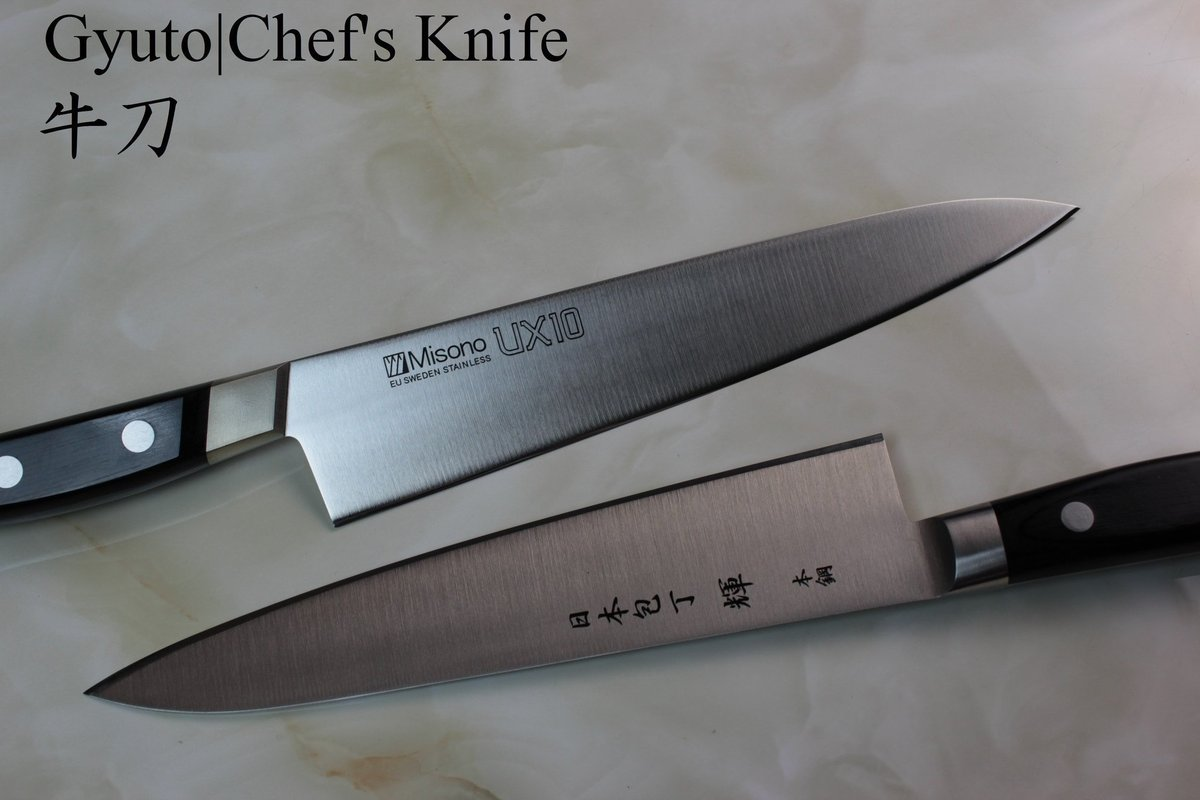knife: (0, 192, 1082, 528)
